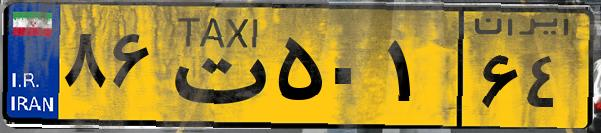0: (330, 28, 385, 110)
1: (385, 28, 445, 110)
4: (525, 38, 570, 115)
5: (270, 28, 330, 110)
6: (475, 38, 525, 113), (110, 28, 158, 98)
8: (57, 26, 110, 100)
ت: (158, 12, 270, 120)
